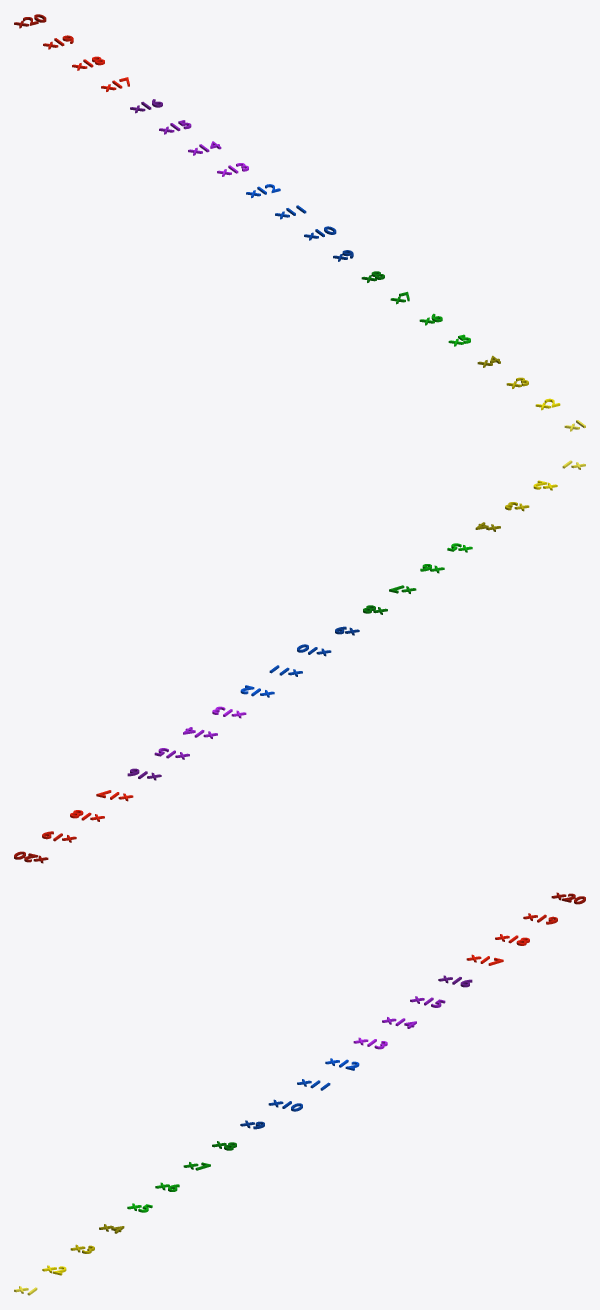
Rendered from ScoreMultipilier.fbx.
3 renders of one model, top to bottom at view 1: azimuth 30°, elevation 25°; view 2: azimuth 150°, elevation 25°; view 3: azimuth 330°, elevation 25°, orthographic. The views are drawn at different scales.
Parts seen in each view (by area): view 1: Text; view 2: Text; view 3: Text.
Boxes of the visible parts, x1=… form: Text: x1=14, y1=14, x2=585, y2=431; Text: x1=14, y1=460, x2=585, y2=863; Text: x1=14, y1=892, x2=585, y2=1295.
Size of the model in its own units: 149 by 10 by 4819.
1 material, 1 textured.
